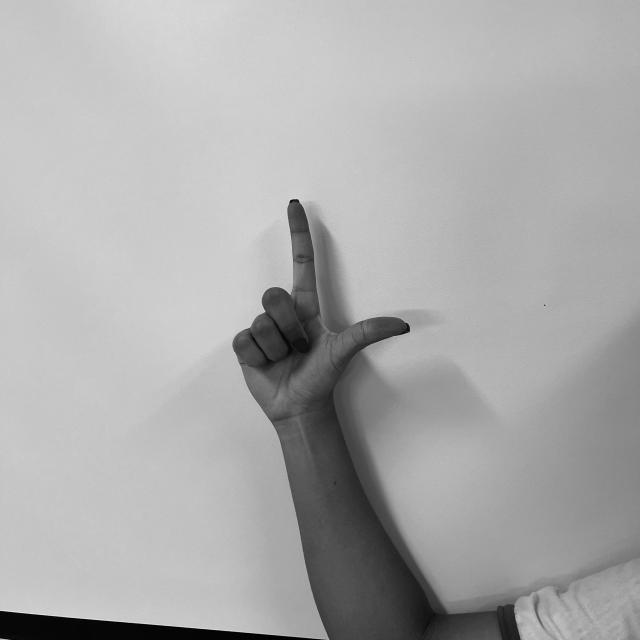Letra L: (228, 192, 416, 422)
